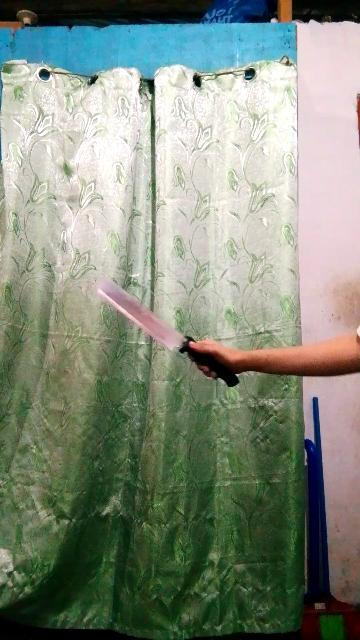long knife: (98, 279, 248, 395)
